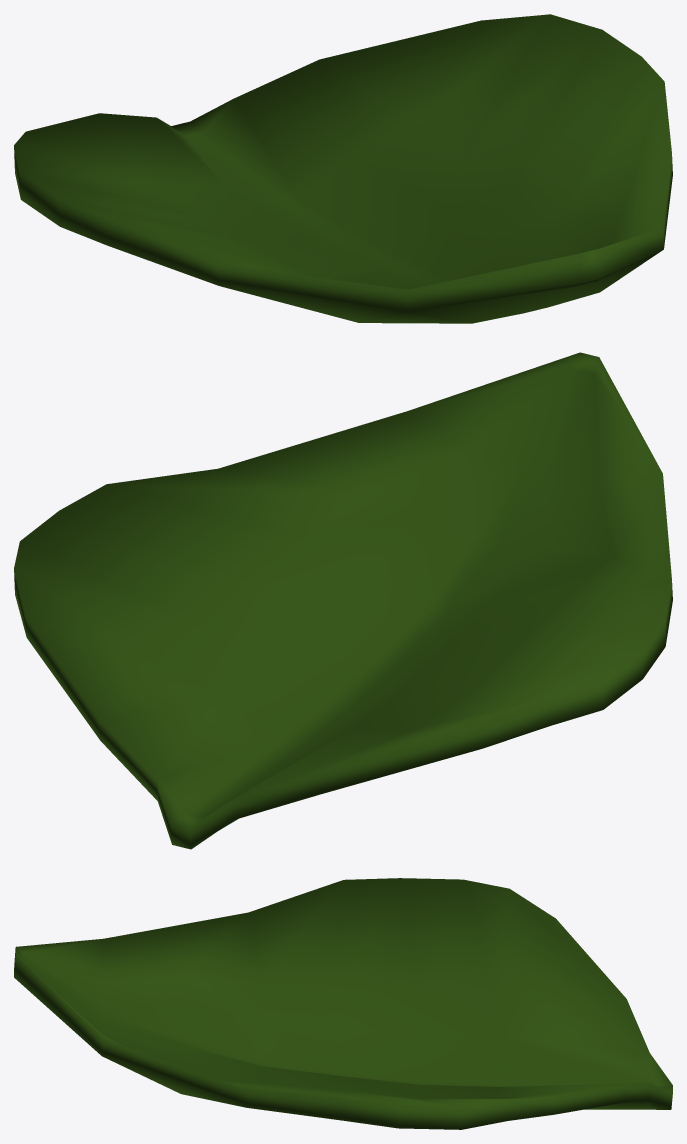
Rendered from Leaf.fbx.
3 renders of one model, top to bottom at view 1: azimuth 30°, elevation 25°; view 2: azimuth 150°, elevation 25°; view 3: azimuth 270°, elevation 25°, orthographic. The views are drawn at different scales.
Visible parts, largest first — view 1: Leaf; view 2: Leaf; view 3: Leaf.
Part boxes in pixels (x1,y1,x2,y2): Leaf: (14, 14, 672, 323); Leaf: (14, 352, 672, 849); Leaf: (14, 878, 672, 1129).
Bounding box in the file's own units: 56.95 × 18.09 × 69.41.
